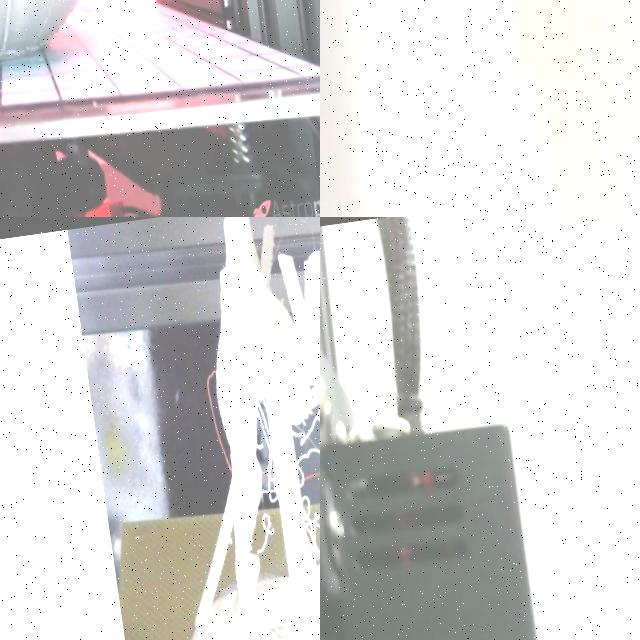spaghetti: (283, 405, 320, 545), (240, 608, 298, 640)
